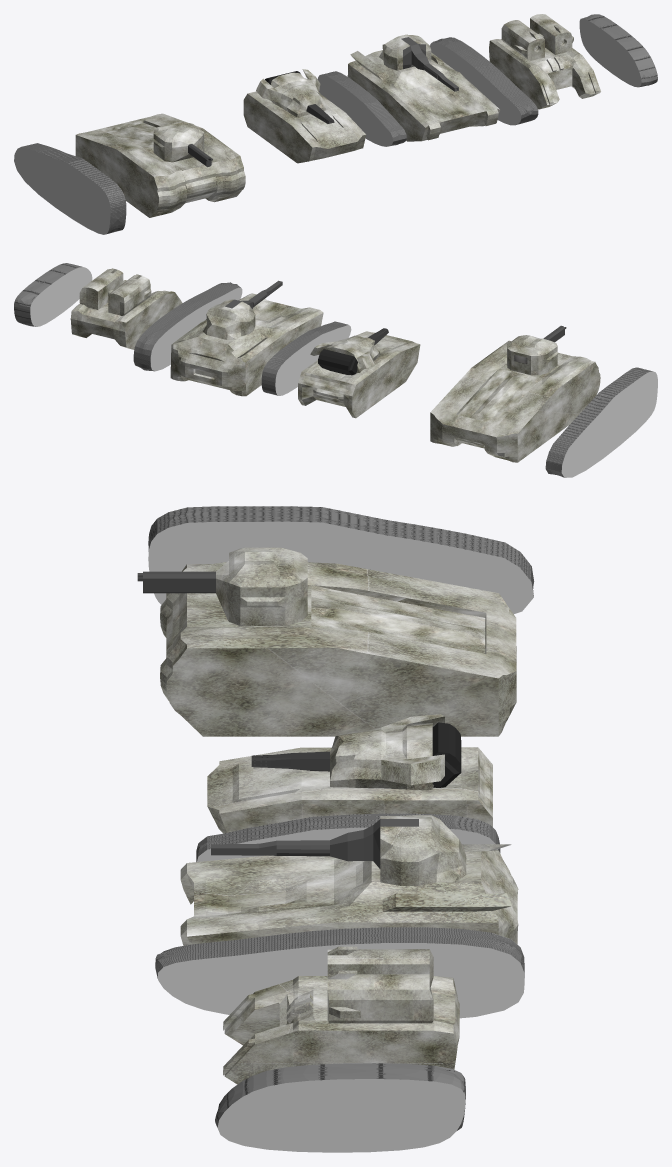
The model's file is tanks.fbx.
The picture shows the model from 3 angles, top to bottom: view 1: azimuth 30°, elevation 25°; view 2: azimuth 150°, elevation 25°; view 3: azimuth 270°, elevation 25°; orthographic projection. The views are drawn at different scales.
Parts seen in each view (by area): view 1: Cube.002, Cube.001, Cube.014, Cube, Cube.003, Cube.008, Cube.012, Cube.010, Cube.005, Cube.007, Cube.004, Cube.006; view 2: Cube.002, Cube.001, Cube.014, Cube, Cube.008, Cube.003, Cube.012, Cube.010, Cube.007, Cube.005, Cube.006, Cube.004; view 3: Cube.002, Cube.001, Cube.014, Cube.012, Cube.008, Cube.003, Cube, Cube.005, Cube.006, Cube.004, Cube.007, Cube.010.
Boxes of the visible parts, <box> form: Cube.002: <box>75,113,245,217</box>; Cube.001: <box>347,50,500,141</box>; Cube.014: <box>14,143,126,234</box>; Cube: <box>243,91,366,163</box>; Cube.003: <box>489,39,600,109</box>; Cube.008: <box>430,37,538,125</box>; Cube.012: <box>579,14,657,87</box>; Cube.010: <box>317,71,406,146</box>; Cube.005: <box>256,69,334,123</box>; Cube.007: <box>501,14,573,60</box>; Cube.004: <box>153,122,212,167</box>; Cube.006: <box>379,34,458,91</box>; Cube.002: <box>430,340,600,462</box>; Cube.001: <box>170,293,323,396</box>; Cube.014: <box>545,367,657,477</box>; Cube: <box>298,331,420,418</box>; Cube.008: <box>133,282,242,371</box>; Cube.003: <box>70,280,182,349</box>; Cube.012: <box>14,263,92,326</box>; Cube.010: <box>261,321,351,395</box>; Cube.007: <box>79,268,151,315</box>; Cube.005: <box>310,328,388,375</box>; Cube.006: <box>203,280,282,339</box>; Cube.004: <box>507,325,566,375</box>; Cube.002: <box>160,562,516,736</box>; Cube.001: <box>180,844,518,945</box>; Cube.014: <box>148,506,534,613</box>; Cube.012: <box>215,1063,465,1152</box>; Cube.008: <box>155,927,524,1018</box>; Cube.003: <box>223,976,459,1084</box>; Cube: <box>207,747,492,833</box>; Cube.005: <box>251,714,461,790</box>; Cube.006: <box>211,814,466,885</box>; Cube.004: <box>137,547,307,625</box>; Cube.007: <box>327,946,433,1023</box>; Cube.010: <box>196,813,500,861</box>.
Bounding box in the file's own units: 2076 × 265 × 631.
